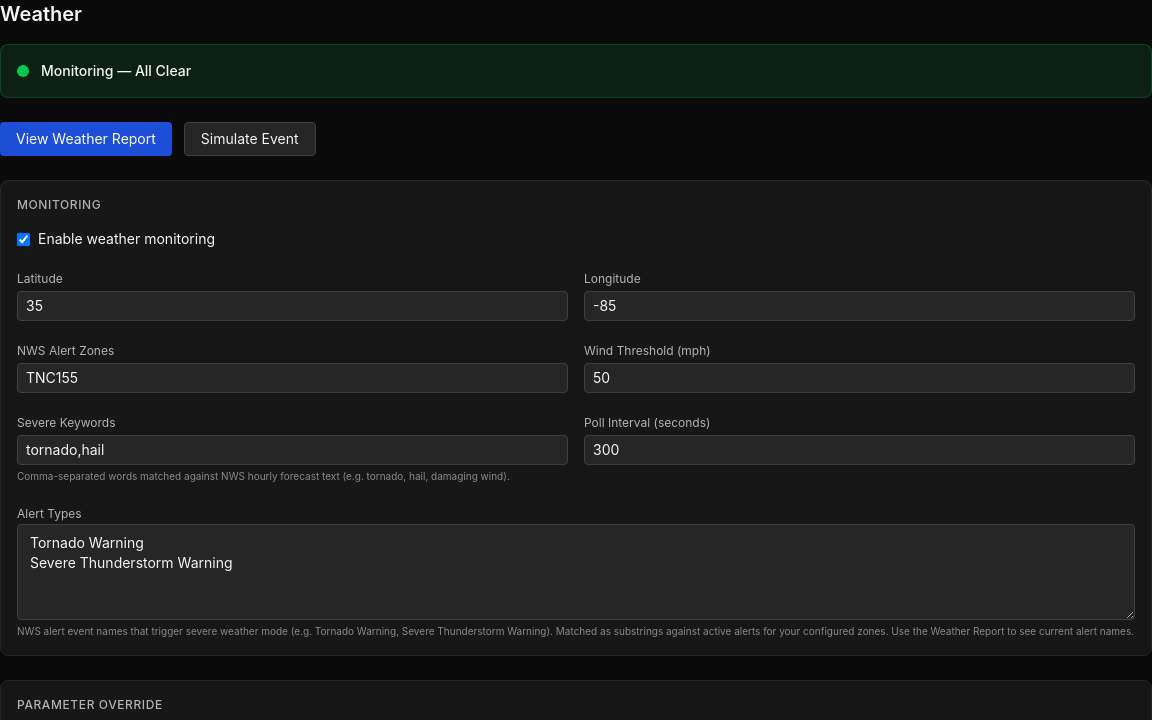
Test: WeatherConfig — Actions › opens simulate modal
Click the button "Simulate Event" at (250, 139), box left=184, top=122, right=316, bottom=156
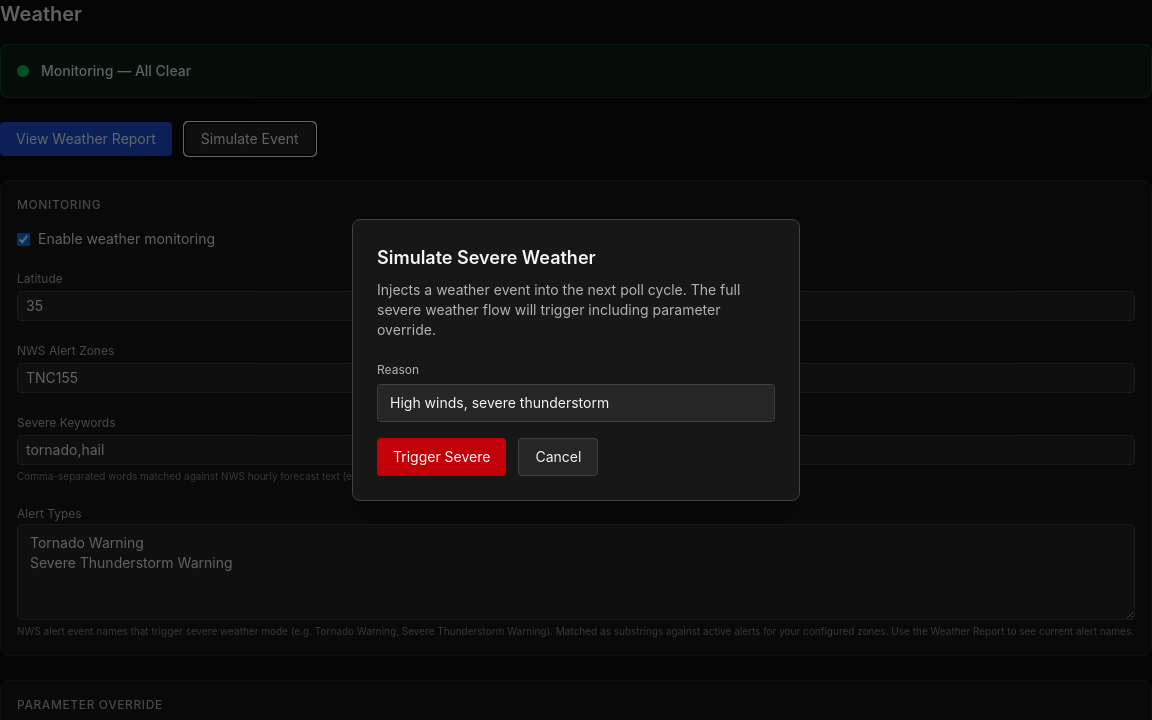
Check: the heading "Simulate Severe Weather" is shown, box left=377, top=247, right=596, bottom=268
Check: the button "Trigger Severe" is shown, box left=377, top=438, right=506, bottom=476
Check: the field showing "High winds, severe thunderstorm" is shown, box left=377, top=384, right=775, bottom=422
